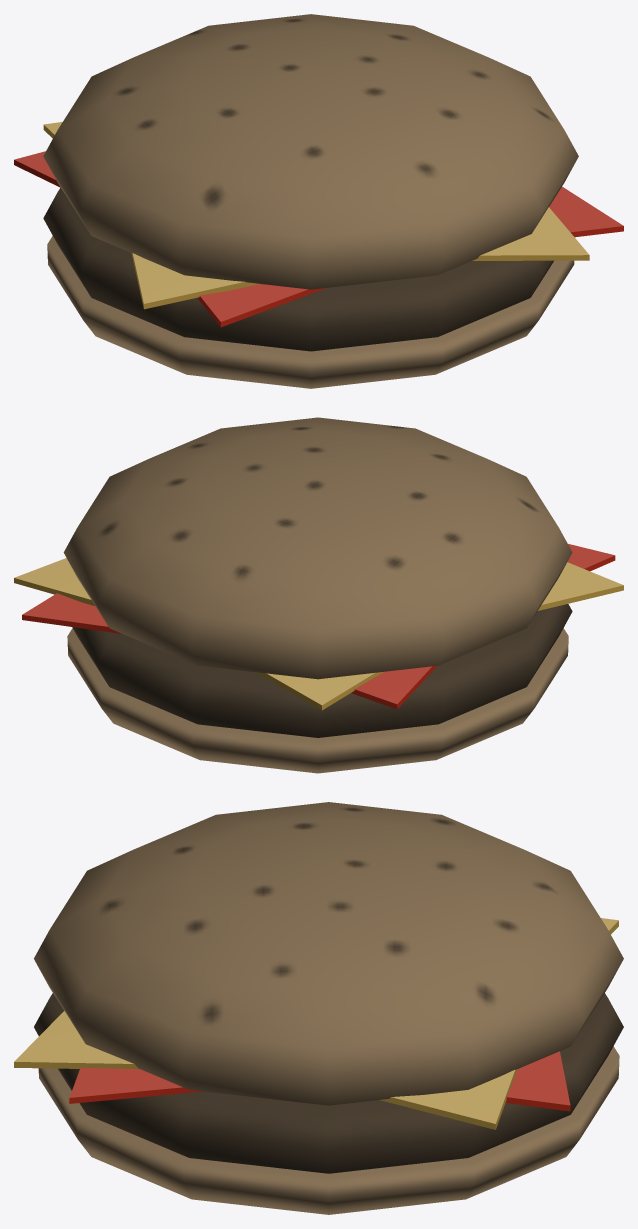
File: Hamburger_01.fbx
3 renders of one model, top to bottom at view 1: azimuth 30°, elevation 25°; view 2: azimuth 150°, elevation 25°; view 3: azimuth 270°, elevation 25°, orthographic. The views are drawn at different scales.
Parts seen in each view (by area): view 1: Hamburger_01; view 2: Hamburger_01; view 3: Hamburger_01.
Boxes of the visible parts, box(x1,y1,x2,y2) form: Hamburger_01: box(14, 14, 623, 388); Hamburger_01: box(14, 417, 623, 773); Hamburger_01: box(14, 802, 623, 1214).
Bounding box in the file's own units: 338 × 140 × 331.
1 material, 1 textured.
